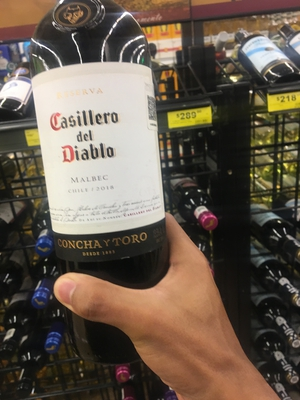casillero del diablo malbec: (20, 14, 196, 341)
